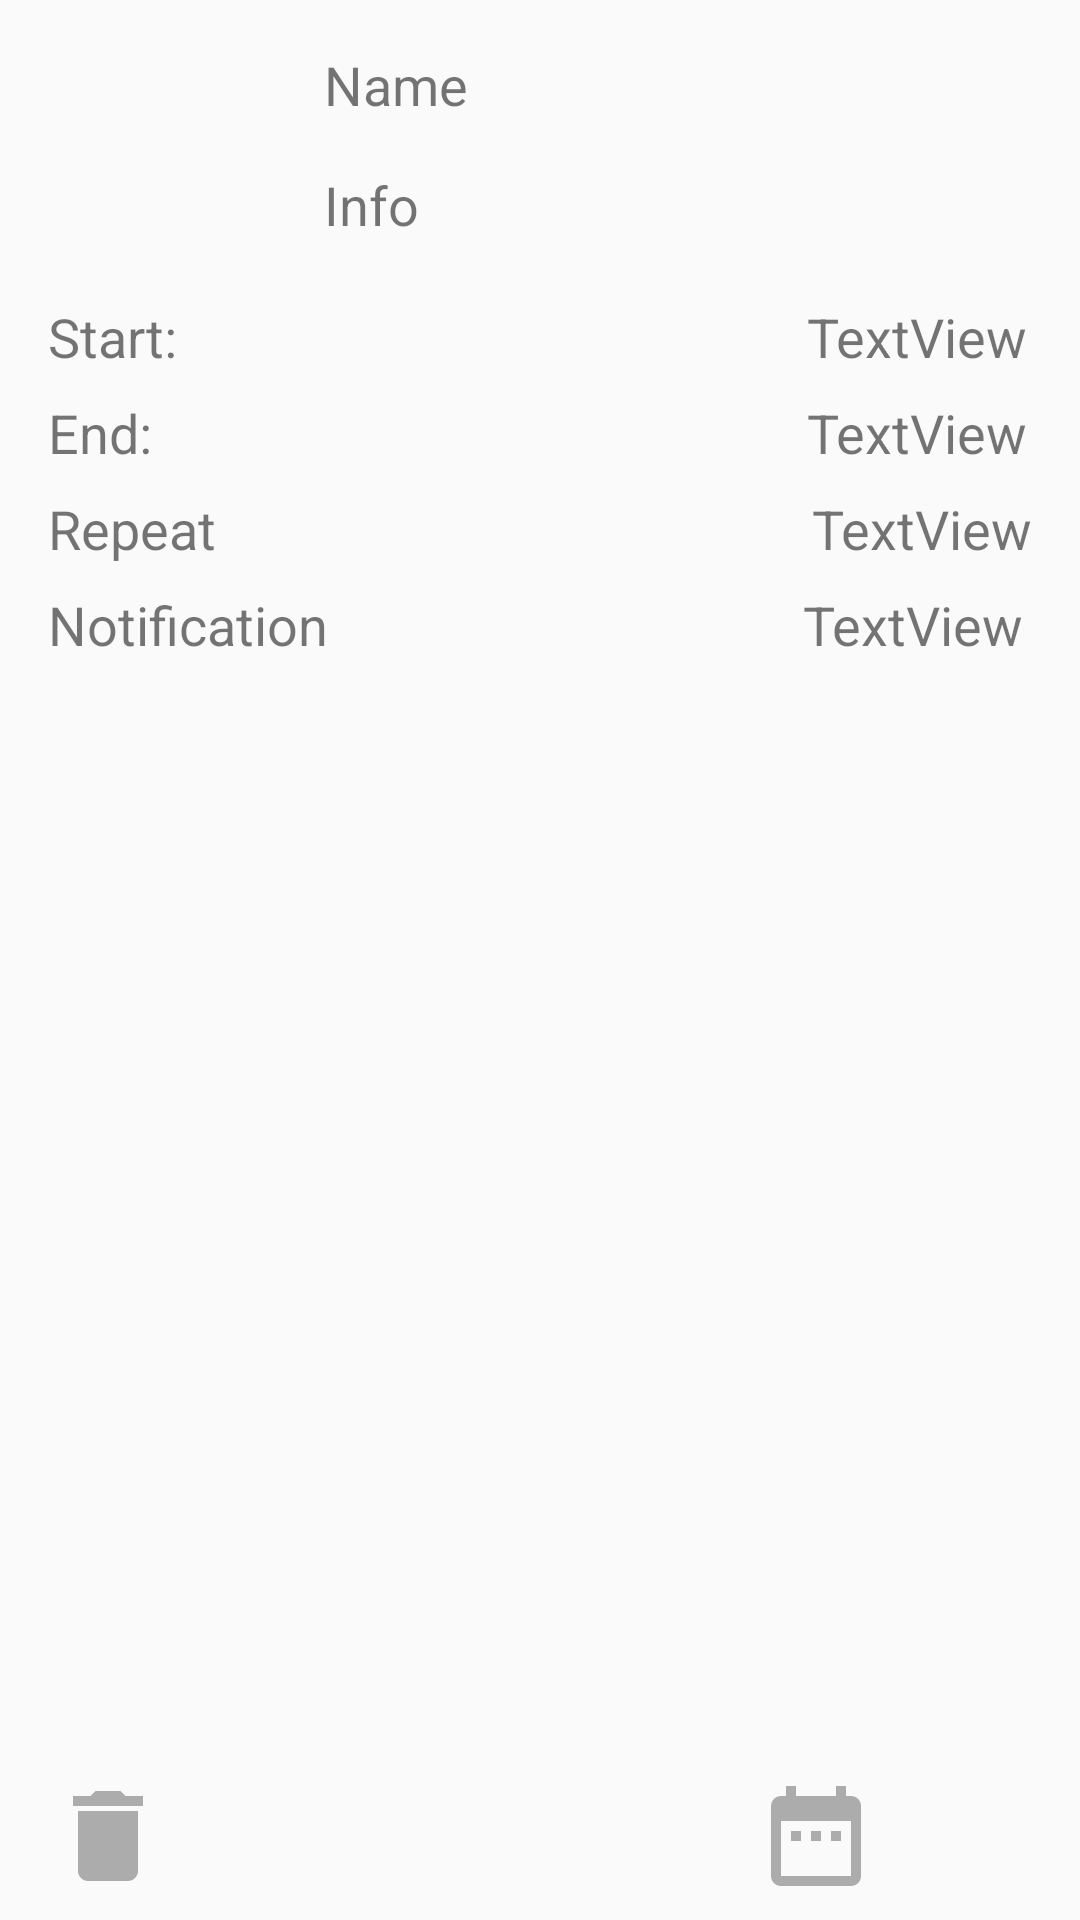

Screen size 1080 × 1920. Icon name, then its box in pixels as [left=x1, top=y1, right=x2, bottom=y2]:
date range: [left=771, top=1786, right=861, bottom=1886]
